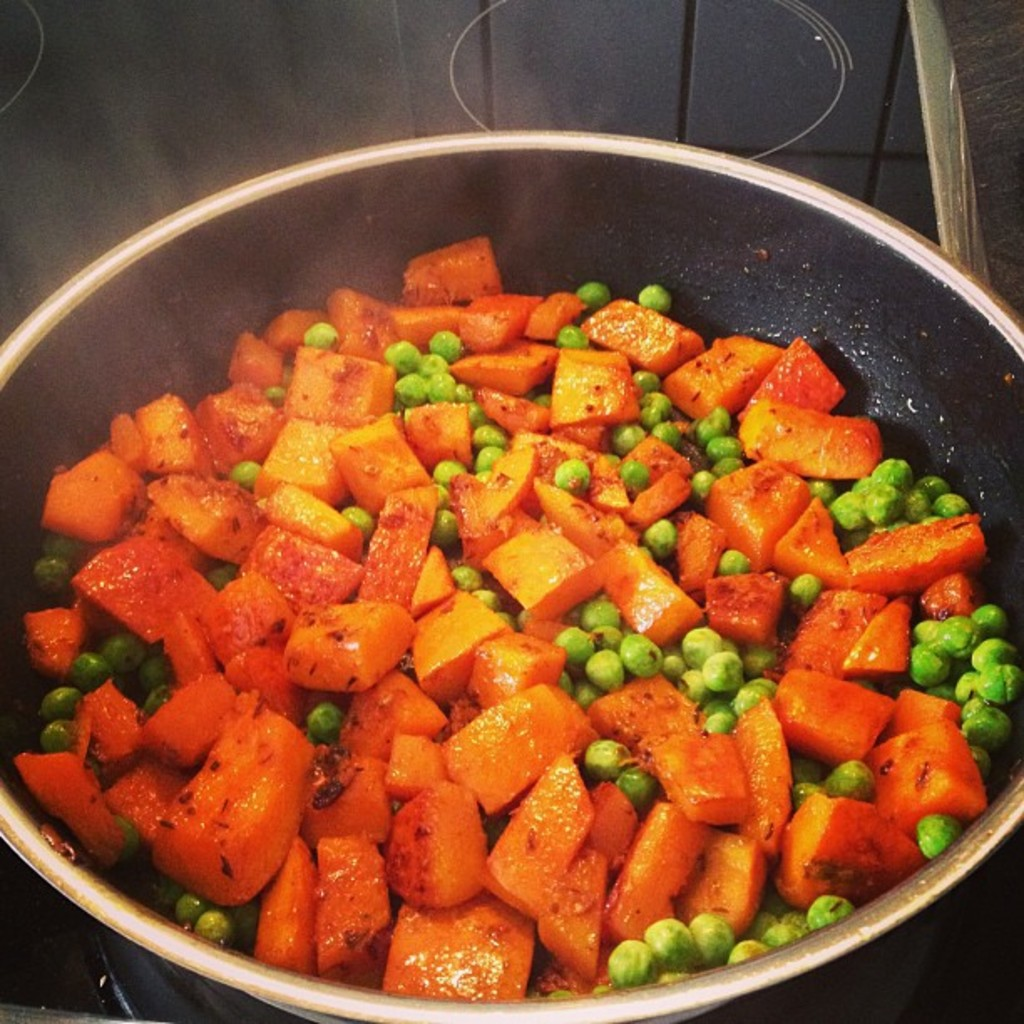Carrot: (18, 234, 1000, 1000), (148, 701, 324, 903)
